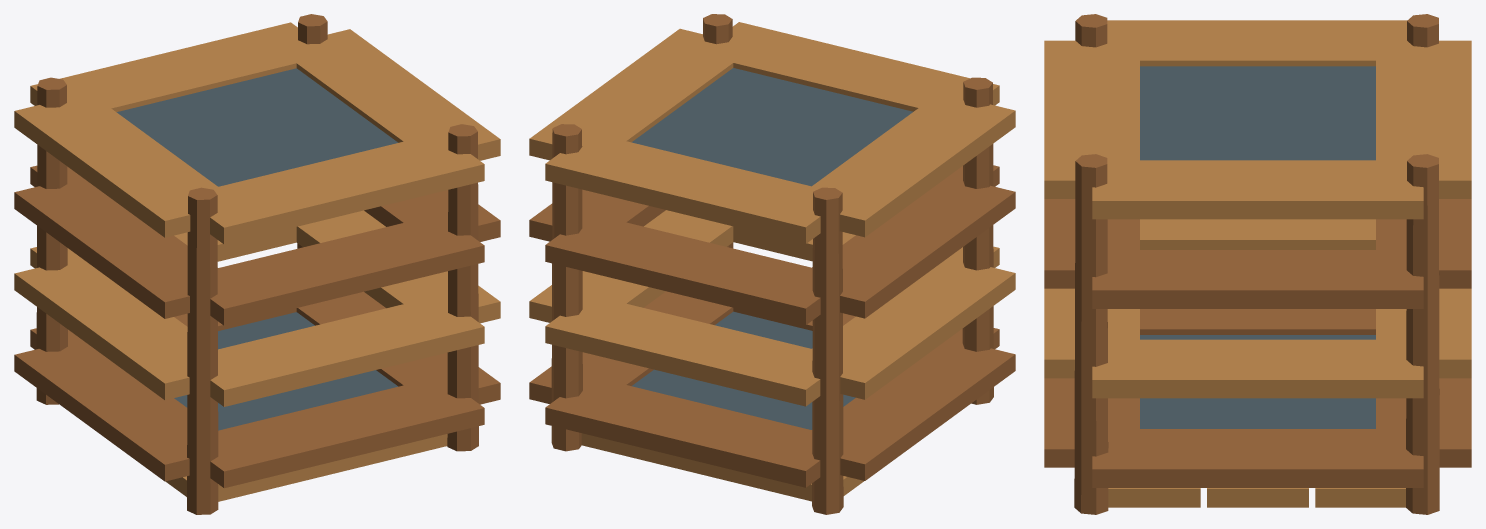
Rendered from crate.glb.
3 renders of one model, left to right at view 1: azimuth 30°, elevation 25°; view 2: azimuth 150°, elevation 25°; view 3: azimuth 270°, elevation 25°, orthographic. The views are drawn at different scales.
Visible parts, largest first — view 1: crate.001; view 2: crate.001; view 3: crate.001.
Boxes of the visible parts, x1,y1,x2,y2 form: crate.001: (14,14,500,514); crate.001: (529,14,1015,514); crate.001: (1044,14,1471,514).
Size of the model in its own units: 0.653 by 0.5848 by 0.653.
